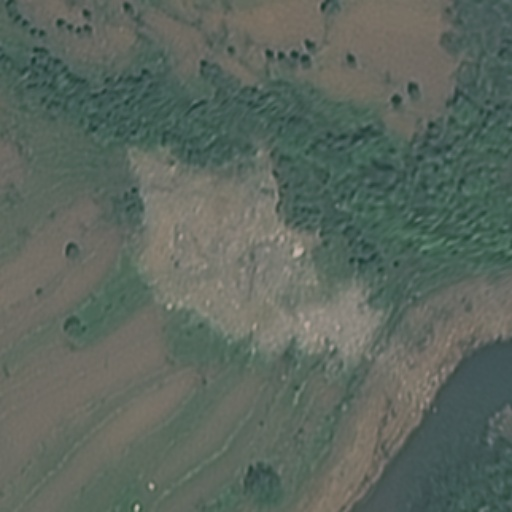landslide: (126, 161, 297, 332)
